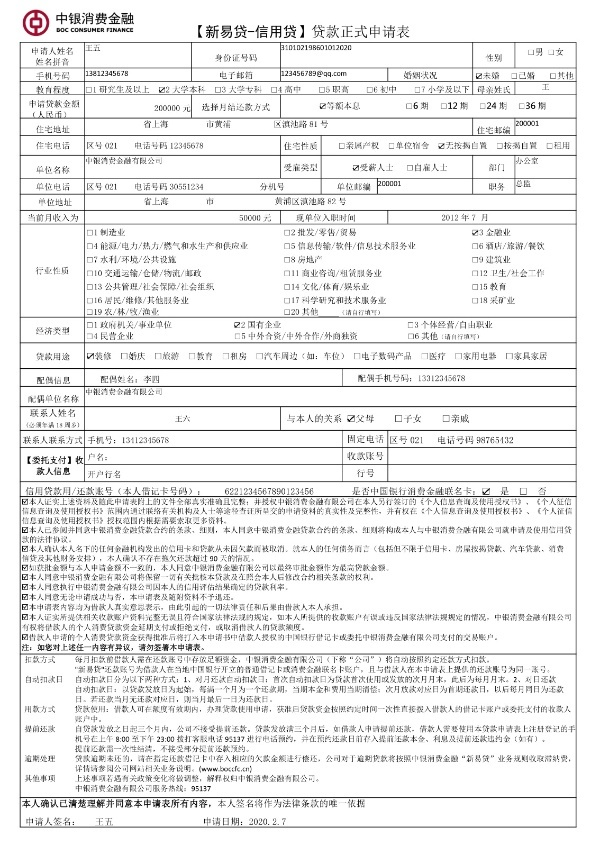text: (209, 23, 224, 42), (225, 23, 240, 42), (241, 23, 256, 42), (257, 23, 272, 42), (273, 23, 288, 42), (289, 23, 304, 42), (305, 23, 320, 42), (321, 23, 336, 42), (337, 23, 352, 42), (353, 23, 368, 42), (369, 23, 384, 42), (385, 23, 400, 42), (65, 11, 80, 28), (81, 11, 96, 28), (97, 11, 112, 28), (113, 11, 128, 28), (481, 293, 496, 310), (497, 293, 512, 310), (401, 23, 414, 42), (97, 266, 112, 281), (113, 266, 128, 281), (129, 266, 144, 281), (145, 266, 160, 281), (161, 266, 176, 281), (177, 266, 192, 281), (289, 239, 304, 254), (305, 239, 320, 254), (321, 239, 336, 254), (337, 239, 352, 254), (353, 239, 368, 254), (369, 239, 384, 254), (385, 239, 400, 254), (401, 239, 416, 254), (289, 266, 304, 281), (305, 266, 320, 281), (321, 266, 336, 281), (337, 266, 352, 281), (353, 266, 368, 281), (369, 266, 384, 281), (289, 293, 304, 308), (305, 293, 320, 308), (321, 293, 336, 308), (337, 293, 352, 308), (353, 293, 368, 308), (369, 293, 384, 308), (113, 227, 129, 241), (145, 117, 160, 131), (97, 227, 112, 241), (97, 253, 112, 267), (113, 253, 128, 267), (129, 253, 144, 267), (145, 253, 160, 267), (161, 253, 176, 267), (97, 280, 112, 294), (113, 280, 128, 294), (129, 280, 144, 294), (145, 280, 160, 294), (161, 280, 176, 294), (177, 280, 192, 294), (193, 280, 208, 294), (97, 294, 112, 308), (113, 294, 128, 308), (129, 294, 144, 308), (145, 294, 160, 308), (161, 294, 176, 308), (177, 294, 192, 308), (289, 227, 304, 241), (305, 227, 320, 241), (321, 227, 336, 241), (337, 227, 352, 241), (289, 253, 304, 267), (305, 253, 320, 267), (481, 240, 496, 254), (497, 240, 512, 254), (513, 240, 528, 254), (529, 240, 544, 254), (33, 394, 48, 408), (49, 394, 64, 408), (65, 394, 80, 408), (289, 413, 304, 427), (305, 413, 320, 427), (321, 413, 336, 427), (337, 413, 352, 427), (353, 413, 368, 427), (369, 413, 384, 427), (385, 413, 400, 427), (401, 413, 416, 427), (417, 413, 432, 427), (433, 413, 448, 427), (449, 413, 464, 427), (33, 723, 48, 737), (33, 798, 48, 812), (49, 798, 64, 812), (65, 798, 80, 812), (81, 798, 96, 812), (97, 798, 112, 812), (113, 798, 128, 812), (129, 798, 144, 812), (145, 798, 160, 812), (161, 798, 176, 812), (177, 798, 192, 812), (193, 798, 208, 812), (209, 798, 224, 812), (225, 798, 240, 812), (241, 798, 256, 812), (257, 798, 272, 812), (273, 798, 288, 812), (289, 798, 304, 812), (305, 798, 320, 812), (321, 798, 336, 812), (337, 798, 352, 812), (353, 798, 368, 812), (97, 815, 112, 829), (305, 140, 321, 153), (49, 56, 64, 69), (49, 140, 64, 153), (289, 140, 304, 153), (353, 139, 368, 152), (369, 139, 384, 152), (385, 139, 400, 152), (401, 139, 416, 152), (417, 139, 432, 152), (433, 139, 448, 152), (449, 139, 464, 152), (465, 139, 480, 152), (481, 139, 496, 152), (497, 139, 512, 152), (513, 139, 528, 152), (529, 139, 544, 152), (545, 139, 560, 152), (49, 182, 64, 195), (145, 181, 160, 194), (161, 181, 176, 194), (177, 181, 192, 194), (193, 181, 208, 194), (305, 212, 320, 225), (321, 212, 336, 225), (337, 212, 352, 225), (49, 264, 64, 277), (97, 240, 112, 253), (113, 240, 128, 253), (129, 240, 144, 253), (145, 240, 160, 253), (161, 240, 176, 253), (177, 240, 192, 253), (193, 240, 208, 253), (209, 240, 224, 253), (225, 240, 240, 253), (193, 266, 206, 281), (97, 306, 112, 319), (113, 306, 128, 319), (129, 306, 144, 319), (145, 306, 160, 319), (289, 280, 304, 293), (305, 280, 320, 293), (321, 280, 336, 293), (337, 280, 352, 293), (353, 280, 368, 293), (481, 228, 496, 241), (497, 228, 512, 241), (481, 254, 496, 267), (497, 254, 512, 267), (481, 267, 496, 280), (497, 267, 512, 280), (513, 267, 528, 280), (529, 267, 544, 280), (481, 280, 496, 293), (497, 280, 512, 293), (49, 325, 64, 338), (353, 433, 368, 446), (369, 433, 384, 446), (385, 433, 400, 446), (401, 433, 416, 446), (417, 433, 432, 446), (433, 433, 448, 446), (449, 433, 464, 446), (465, 433, 480, 446), (481, 433, 496, 446), (497, 433, 512, 446), (353, 450, 368, 463), (369, 450, 384, 463), (33, 455, 48, 468), (49, 455, 64, 468), (65, 455, 80, 468), (49, 466, 64, 479), (81, 773, 96, 786), (97, 773, 112, 786), (113, 773, 128, 786), (129, 773, 144, 786), (145, 773, 160, 786), (161, 773, 176, 786), (177, 773, 192, 786), (193, 773, 208, 786), (209, 773, 224, 786), (225, 773, 240, 786), (241, 773, 256, 786), (257, 773, 272, 786), (273, 773, 288, 786), (289, 773, 304, 786), (305, 773, 320, 786), (209, 815, 224, 828), (225, 815, 240, 828), (241, 815, 256, 828), (257, 815, 272, 828), (273, 815, 288, 828), (241, 70, 257, 82), (497, 84, 513, 96), (257, 102, 273, 114), (305, 162, 321, 174), (49, 674, 65, 686), (198, 23, 208, 42), (469, 293, 480, 310), (34, 140, 48, 153), (338, 139, 352, 152), (34, 466, 48, 479), (49, 70, 64, 82), (225, 70, 240, 82), (289, 67, 304, 79), (305, 67, 320, 79), (321, 67, 336, 79), (417, 70, 432, 82), (481, 84, 496, 96), (33, 98, 48, 110), (49, 98, 64, 110), (65, 98, 80, 110), (33, 108, 48, 120), (49, 108, 64, 120), (209, 102, 224, 114), (225, 102, 240, 114), (241, 102, 256, 114), (321, 100, 336, 112), (337, 100, 352, 112), (49, 124, 64, 136), (273, 118, 288, 130), (289, 118, 304, 130), (305, 118, 320, 130), (289, 162, 304, 174), (353, 162, 368, 174), (369, 162, 384, 174), (385, 162, 400, 174), (401, 162, 416, 174), (417, 162, 432, 174), (433, 162, 448, 174), (97, 181, 112, 193), (337, 181, 352, 193), (353, 181, 368, 193), (145, 196, 160, 208), (273, 196, 288, 208), (289, 196, 304, 208), (305, 196, 320, 208), (321, 196, 336, 208), (33, 212, 48, 224), (49, 212, 64, 224), (65, 212, 80, 224), (449, 212, 464, 224), (465, 212, 480, 224), (84, 266, 96, 281), (353, 307, 368, 319), (369, 307, 384, 319), (97, 331, 112, 343), (113, 331, 128, 343), (241, 331, 256, 343), (257, 331, 272, 343), (273, 331, 288, 343), (289, 331, 304, 343), (305, 331, 320, 343), (321, 331, 336, 343), (337, 331, 352, 343), (417, 320, 432, 332), (433, 320, 448, 332), (449, 320, 464, 332), (465, 320, 480, 332), (481, 320, 496, 332), (417, 332, 432, 344), (433, 332, 448, 344), (449, 332, 464, 344), (465, 332, 480, 344), (49, 352, 64, 364), (97, 351, 112, 363), (113, 351, 128, 363), (129, 351, 144, 363), (145, 351, 160, 363), (161, 351, 176, 363), (177, 351, 192, 363), (193, 351, 208, 363), (209, 351, 224, 363), (225, 351, 240, 363), (241, 351, 256, 363), (257, 351, 272, 363), (273, 351, 288, 363), (289, 351, 304, 363), (305, 351, 320, 363), (321, 351, 336, 363), (337, 351, 352, 363), (353, 351, 368, 363), (369, 351, 384, 363), (385, 351, 400, 363), (401, 351, 416, 363), (417, 351, 432, 363), (433, 351, 448, 363), (449, 351, 464, 363), (465, 351, 480, 363), (481, 351, 496, 363), (497, 351, 512, 363), (513, 351, 528, 363), (529, 351, 544, 363), (113, 375, 128, 387), (129, 375, 144, 387), (145, 375, 160, 387), (369, 373, 384, 385), (385, 373, 400, 385), (401, 373, 416, 385), (417, 373, 432, 385), (433, 373, 448, 385), (449, 373, 464, 385), (97, 469, 112, 481), (33, 486, 48, 498), (49, 486, 64, 498), (65, 486, 80, 498), (81, 486, 96, 498), (97, 486, 112, 498), (113, 486, 128, 498), (129, 486, 144, 498), (145, 486, 160, 498), (161, 486, 176, 498), (177, 486, 192, 498), (225, 486, 240, 498), (241, 486, 256, 498), (257, 486, 272, 498), (273, 486, 288, 498), (289, 486, 304, 498), (353, 486, 368, 498), (369, 486, 384, 498), (385, 486, 400, 498), (401, 486, 416, 498), (417, 486, 432, 498), (433, 486, 448, 498), (449, 486, 464, 498), (465, 486, 480, 498), (481, 486, 496, 498), (497, 486, 512, 498), (513, 486, 528, 498), (529, 486, 544, 498), (33, 642, 48, 654), (49, 642, 64, 654), (65, 642, 80, 654), (81, 642, 96, 654), (97, 642, 112, 654), (113, 642, 128, 654), (129, 642, 144, 654), (145, 642, 160, 654), (161, 642, 176, 654), (177, 642, 192, 654), (193, 642, 208, 654), (33, 655, 48, 667), (33, 674, 48, 686), (33, 753, 48, 765), (81, 664, 96, 676), (97, 664, 112, 676), (113, 664, 128, 676), (129, 664, 144, 676), (145, 664, 160, 676), (161, 664, 176, 676), (177, 664, 192, 676), (193, 664, 208, 676), (209, 664, 224, 676), (225, 664, 240, 676), (241, 664, 256, 676), (257, 664, 272, 676), (273, 664, 288, 676), (289, 664, 304, 676), (305, 664, 320, 676), (321, 664, 336, 676), (337, 664, 352, 676), (353, 664, 368, 676), (369, 664, 384, 676), (385, 664, 400, 676), (401, 664, 416, 676), (417, 664, 432, 676), (433, 664, 448, 676), (449, 664, 464, 676), (465, 664, 480, 676), (481, 664, 496, 676), (497, 664, 512, 676), (513, 664, 528, 676), (529, 664, 544, 676), (81, 724, 96, 736), (97, 724, 112, 736), (113, 724, 128, 736), (129, 724, 144, 736), (145, 724, 160, 736), (161, 724, 176, 736), (177, 724, 192, 736), (193, 724, 208, 736), (209, 724, 224, 736), (225, 724, 240, 736), (241, 724, 256, 736), (257, 724, 272, 736), (273, 724, 288, 736), (289, 724, 304, 736), (305, 724, 320, 736), (321, 724, 336, 736), (337, 724, 352, 736), (353, 724, 368, 736), (369, 724, 384, 736), (385, 724, 400, 736), (401, 724, 416, 736), (417, 724, 432, 736), (433, 724, 448, 736), (449, 724, 464, 736), (465, 724, 480, 736), (481, 724, 496, 736), (497, 724, 512, 736), (513, 724, 528, 736), (529, 724, 544, 736), (545, 724, 560, 736), (561, 724, 576, 736), (497, 126, 513, 137), (273, 182, 289, 193), (225, 592, 241, 603), (481, 655, 497, 666), (35, 56, 48, 69), (529, 155, 542, 168), (35, 264, 48, 277), (35, 325, 48, 338), (355, 468, 368, 481), (337, 67, 351, 79), (84, 280, 96, 294), (84, 294, 96, 308), (34, 352, 48, 364), (65, 24, 80, 35), (81, 24, 96, 35), (97, 24, 112, 35), (113, 24, 128, 35), (33, 46, 48, 57), (49, 46, 64, 57), (225, 53, 240, 64), (241, 53, 256, 64), (529, 47, 544, 58), (545, 47, 560, 58), (97, 68, 112, 79), (113, 68, 128, 79), (481, 71, 496, 82), (497, 71, 512, 82), (513, 71, 528, 82), (529, 71, 544, 82), (545, 71, 560, 82), (561, 71, 576, 82), (49, 84, 64, 95), (97, 84, 112, 95), (113, 84, 128, 95), (129, 84, 144, 95), (145, 84, 160, 95), (161, 84, 176, 95), (177, 84, 192, 95), (193, 84, 208, 95), (209, 84, 224, 95), (225, 84, 240, 95), (241, 84, 256, 95), (257, 84, 272, 95), (273, 84, 288, 95), (289, 84, 304, 95), (305, 84, 320, 95), (321, 84, 336, 95), (337, 84, 352, 95), (353, 84, 368, 95), (369, 84, 384, 95), (385, 84, 400, 95), (401, 84, 416, 95), (417, 84, 432, 95), (433, 84, 448, 95), (449, 84, 464, 95), (161, 104, 176, 115), (177, 104, 192, 115), (417, 101, 432, 112), (433, 101, 448, 112), (449, 101, 464, 112), (465, 101, 480, 112), (481, 101, 496, 112), (497, 101, 512, 112), (513, 101, 528, 112), (529, 101, 544, 112), (481, 126, 496, 137), (97, 140, 112, 151), (145, 141, 160, 152), (161, 141, 176, 152), (177, 141, 192, 152), (49, 166, 64, 177), (97, 157, 112, 168), (113, 157, 128, 168), (129, 157, 144, 168), (145, 157, 160, 168), (49, 197, 64, 208), (241, 213, 256, 224), (257, 213, 272, 224), (289, 307, 304, 318), (305, 307, 320, 318), (97, 320, 112, 331), (113, 320, 128, 331), (129, 320, 144, 331), (145, 320, 160, 331), (241, 320, 256, 331), (257, 320, 272, 331), (49, 376, 64, 387), (97, 387, 112, 398), (113, 387, 128, 398), (129, 387, 144, 398), (145, 387, 160, 398), (33, 408, 48, 419), (49, 408, 64, 419), (65, 408, 80, 419), (177, 414, 192, 425), (33, 435, 48, 446), (49, 435, 64, 446), (65, 435, 80, 446), (81, 435, 96, 446), (97, 435, 112, 446), (113, 435, 128, 446), (129, 435, 144, 446), (145, 435, 160, 446), (33, 497, 48, 508), (49, 497, 64, 508), (65, 497, 80, 508), (81, 497, 96, 508), (97, 497, 112, 508), (113, 497, 128, 508), (129, 497, 144, 508), (145, 497, 160, 508), (161, 497, 176, 508), (177, 497, 192, 508), (193, 497, 208, 508), (209, 497, 224, 508), (225, 497, 240, 508), (241, 497, 256, 508), (257, 497, 272, 508), (273, 497, 288, 508), (289, 497, 304, 508), (305, 497, 320, 508), (321, 497, 336, 508), (337, 497, 352, 508), (353, 497, 368, 508), (369, 497, 384, 508), (385, 497, 400, 508), (401, 497, 416, 508), (417, 497, 432, 508), (433, 497, 448, 508), (449, 497, 464, 508), (465, 497, 480, 508), (481, 497, 496, 508), (497, 497, 512, 508), (513, 497, 528, 508), (529, 497, 544, 508), (545, 497, 560, 508), (561, 497, 576, 508), (33, 525, 48, 536), (49, 525, 64, 536), (65, 525, 80, 536), (81, 525, 96, 536), (97, 525, 112, 536), (113, 525, 128, 536), (129, 525, 144, 536), (145, 525, 160, 536), (161, 525, 176, 536), (177, 525, 192, 536), (193, 525, 208, 536), (209, 525, 224, 536), (225, 525, 240, 536), (241, 525, 256, 536), (257, 525, 272, 536), (273, 525, 288, 536), (289, 525, 304, 536), (305, 525, 320, 536), (321, 525, 336, 536), (337, 525, 352, 536), (353, 525, 368, 536), (369, 525, 384, 536), (385, 525, 400, 536), (401, 525, 416, 536), (417, 525, 432, 536), (433, 525, 448, 536), (449, 525, 464, 536), (465, 525, 480, 536), (481, 525, 496, 536), (497, 525, 512, 536), (513, 525, 528, 536), (529, 525, 544, 536), (545, 525, 560, 536), (561, 525, 576, 536), (33, 535, 48, 546), (49, 535, 64, 546), (33, 563, 48, 574), (49, 563, 64, 574), (65, 563, 80, 574), (81, 563, 96, 574), (97, 563, 112, 574), (113, 563, 128, 574), (129, 563, 144, 574), (145, 563, 160, 574), (161, 563, 176, 574), (177, 563, 192, 574), (193, 563, 208, 574), (209, 563, 224, 574), (225, 563, 240, 574), (241, 563, 256, 574), (257, 563, 272, 574), (273, 563, 288, 574), (289, 563, 304, 574), (305, 563, 320, 574), (321, 563, 336, 574), (337, 563, 352, 574), (353, 563, 368, 574), (369, 563, 384, 574), (33, 573, 48, 584), (49, 573, 64, 584), (65, 573, 80, 584), (81, 573, 96, 584), (97, 573, 112, 584), (113, 573, 128, 584), (129, 573, 144, 584), (145, 573, 160, 584), (161, 573, 176, 584), (177, 573, 192, 584), (193, 573, 208, 584), (209, 573, 224, 584), (225, 573, 240, 584), (241, 573, 256, 584), (257, 573, 272, 584), (273, 573, 288, 584), (289, 573, 304, 584), (305, 573, 320, 584), (321, 573, 336, 584), (337, 573, 352, 584), (353, 573, 368, 584), (33, 582, 48, 593), (49, 582, 64, 593), (65, 582, 80, 593), (81, 582, 96, 593), (97, 582, 112, 593), (113, 582, 128, 593), (129, 582, 144, 593), (145, 582, 160, 593), (161, 582, 176, 593), (177, 582, 192, 593), (193, 582, 208, 593), (209, 582, 224, 593), (225, 582, 240, 593), (241, 582, 256, 593), (257, 582, 272, 593), (273, 582, 288, 593), (33, 592, 48, 603), (49, 592, 64, 603), (65, 592, 80, 603), (81, 592, 96, 603), (97, 592, 112, 603), (113, 592, 128, 603), (129, 592, 144, 603), (145, 592, 160, 603), (161, 592, 176, 603), (177, 592, 192, 603), (193, 592, 208, 603), (209, 592, 224, 603), (33, 602, 48, 613), (49, 602, 64, 613), (65, 602, 80, 613), (81, 602, 96, 613), (97, 602, 112, 613), (113, 602, 128, 613), (129, 602, 144, 613), (145, 602, 160, 613), (161, 602, 176, 613), (177, 602, 192, 613), (193, 602, 208, 613), (209, 602, 224, 613), (225, 602, 240, 613), (241, 602, 256, 613), (257, 602, 272, 613), (273, 602, 288, 613), (289, 602, 304, 613), (305, 602, 320, 613), (321, 602, 336, 613), (33, 612, 48, 623), (49, 612, 64, 623), (65, 612, 80, 623), (81, 612, 96, 623), (97, 612, 112, 623), (113, 612, 128, 623), (129, 612, 144, 623), (145, 612, 160, 623), (161, 612, 176, 623), (177, 612, 192, 623), (193, 612, 208, 623), (209, 612, 224, 623), (225, 612, 240, 623), (241, 612, 256, 623), (257, 612, 272, 623), (273, 612, 288, 623), (289, 612, 304, 623), (305, 612, 320, 623), (321, 612, 336, 623), (337, 612, 352, 623), (353, 612, 368, 623), (369, 612, 384, 623), (385, 612, 400, 623), (401, 612, 416, 623), (417, 612, 432, 623), (433, 612, 448, 623), (449, 612, 464, 623), (465, 612, 480, 623), (481, 612, 496, 623), (497, 612, 512, 623), (513, 612, 528, 623), (529, 612, 544, 623), (545, 612, 560, 623), (561, 612, 576, 623), (33, 623, 48, 634), (49, 623, 64, 634), (65, 623, 80, 634), (81, 623, 96, 634), (97, 623, 112, 634), (113, 623, 128, 634), (129, 623, 144, 634), (145, 623, 160, 634), (161, 623, 176, 634), (177, 623, 192, 634), (193, 623, 208, 634), (209, 623, 224, 634), (225, 623, 240, 634), (241, 623, 256, 634), (257, 623, 272, 634), (273, 623, 288, 634), (289, 623, 304, 634), (33, 632, 48, 643), (49, 632, 64, 643), (65, 632, 80, 643), (81, 632, 96, 643), (97, 632, 112, 643), (113, 632, 128, 643), (129, 632, 144, 643), (145, 632, 160, 643), (161, 632, 176, 643), (177, 632, 192, 643), (193, 632, 208, 643), (209, 632, 224, 643), (225, 632, 240, 643), (241, 632, 256, 643), (257, 632, 272, 643), (273, 632, 288, 643), (289, 632, 304, 643), (305, 632, 320, 643), (321, 632, 336, 643), (337, 632, 352, 643), (353, 632, 368, 643), (369, 632, 384, 643), (385, 632, 400, 643), (401, 632, 416, 643), (417, 632, 432, 643), (433, 632, 448, 643), (449, 632, 464, 643), (465, 632, 480, 643), (481, 632, 496, 643), (33, 773, 48, 784), (81, 655, 96, 666), (97, 655, 112, 666), (113, 655, 128, 666), (129, 655, 144, 666), (145, 655, 160, 666), (161, 655, 176, 666), (177, 655, 192, 666), (193, 655, 208, 666), (209, 655, 224, 666), (225, 655, 240, 666), (241, 655, 256, 666), (257, 655, 272, 666), (273, 655, 288, 666), (289, 655, 304, 666), (305, 655, 320, 666), (321, 655, 336, 666), (337, 655, 352, 666), (353, 655, 368, 666), (369, 655, 384, 666), (385, 655, 400, 666), (401, 655, 416, 666), (417, 655, 432, 666), (433, 655, 448, 666), (449, 655, 464, 666), (465, 655, 480, 666), (81, 684, 96, 695), (97, 684, 112, 695), (113, 684, 128, 695), (129, 684, 144, 695), (145, 684, 160, 695), (161, 684, 176, 695), (177, 684, 192, 695), (193, 684, 208, 695), (209, 684, 224, 695), (225, 684, 240, 695), (241, 684, 256, 695), (257, 684, 272, 695), (273, 684, 288, 695), (289, 684, 304, 695), (305, 684, 320, 695), (321, 684, 336, 695), (337, 684, 352, 695), (353, 684, 368, 695), (369, 684, 384, 695), (385, 684, 400, 695), (401, 684, 416, 695), (417, 684, 432, 695), (433, 684, 448, 695), (449, 684, 464, 695), (465, 684, 480, 695), (481, 684, 496, 695), (497, 684, 512, 695), (513, 684, 528, 695), (529, 684, 544, 695), (545, 684, 560, 695), (81, 694, 96, 705), (97, 694, 112, 705), (113, 694, 128, 705), (129, 694, 144, 705), (145, 694, 160, 705), (161, 694, 176, 705), (177, 694, 192, 705), (193, 694, 208, 705), (209, 694, 224, 705), (225, 694, 240, 705), (241, 694, 256, 705), (257, 694, 272, 705), (81, 704, 96, 715), (97, 704, 112, 715), (113, 704, 128, 715), (129, 704, 144, 715), (145, 704, 160, 715), (161, 704, 176, 715), (177, 704, 192, 715), (193, 704, 208, 715), (209, 704, 224, 715), (225, 704, 240, 715), (241, 704, 256, 715), (257, 704, 272, 715), (273, 704, 288, 715), (289, 704, 304, 715), (305, 704, 320, 715), (321, 704, 336, 715), (337, 704, 352, 715), (353, 704, 368, 715), (369, 704, 384, 715), (385, 704, 400, 715), (401, 704, 416, 715), (417, 704, 432, 715), (433, 704, 448, 715), (449, 704, 464, 715), (465, 704, 480, 715), (481, 704, 496, 715), (497, 704, 512, 715), (513, 704, 528, 715), (529, 704, 544, 715), (545, 704, 560, 715), (81, 714, 96, 725), (81, 734, 96, 745), (97, 734, 112, 745), (113, 734, 128, 745), (129, 734, 144, 745), (145, 734, 160, 745), (161, 734, 176, 745), (177, 734, 192, 745), (193, 734, 208, 745), (209, 734, 224, 745), (225, 734, 240, 745), (241, 734, 256, 745), (257, 734, 272, 745), (273, 734, 288, 745), (289, 734, 304, 745), (305, 734, 320, 745), (321, 734, 336, 745), (337, 734, 352, 745), (353, 734, 368, 745), (369, 734, 384, 745), (385, 734, 400, 745), (401, 734, 416, 745), (417, 734, 432, 745), (433, 734, 448, 745), (449, 734, 464, 745), (465, 734, 480, 745), (481, 734, 496, 745), (497, 734, 512, 745), (513, 734, 528, 745), (529, 734, 544, 745), (81, 763, 96, 774), (97, 763, 112, 774), (113, 763, 128, 774), (129, 763, 144, 774), (145, 763, 160, 774), (161, 763, 176, 774), (177, 763, 192, 774), (193, 763, 208, 774), (209, 763, 224, 774), (225, 763, 240, 774), (241, 763, 256, 774), (81, 783, 96, 794), (97, 783, 112, 794), (113, 783, 128, 794), (129, 783, 144, 794), (145, 783, 160, 794), (161, 783, 176, 794), (177, 783, 192, 794), (193, 783, 208, 794), (33, 817, 48, 828), (49, 817, 64, 828), (35, 70, 48, 82), (403, 70, 416, 82), (35, 124, 48, 136), (561, 139, 573, 152), (36, 182, 48, 195), (337, 196, 350, 208), (99, 375, 112, 387), (305, 486, 318, 498), (34, 84, 48, 95), (161, 117, 172, 131), (193, 141, 207, 152), (34, 166, 48, 177), (85, 253, 96, 267), (321, 253, 332, 267), (161, 320, 175, 331), (561, 704, 575, 715), (55, 11, 64, 28), (129, 11, 138, 28), (289, 43, 304, 53), (305, 43, 320, 53), (321, 43, 336, 53), (337, 43, 352, 53), (209, 119, 224, 129), (385, 179, 400, 189), (33, 420, 48, 430), (49, 420, 64, 430), (65, 420, 80, 430), (33, 507, 48, 517), (49, 507, 64, 517), (65, 507, 80, 517), (81, 507, 96, 517), (97, 507, 112, 517), (113, 507, 128, 517), (129, 507, 144, 517), (145, 507, 160, 517), (161, 507, 176, 517), (177, 507, 192, 517), (193, 507, 208, 517), (209, 507, 224, 517), (225, 507, 240, 517), (241, 507, 256, 517), (257, 507, 272, 517), (273, 507, 288, 517), (289, 507, 304, 517), (305, 507, 320, 517), (321, 507, 336, 517), (337, 507, 352, 517), (353, 507, 368, 517), (369, 507, 384, 517), (385, 507, 400, 517), (401, 507, 416, 517), (417, 507, 432, 517), (433, 507, 448, 517), (449, 507, 464, 517), (465, 507, 480, 517), (481, 507, 496, 517), (497, 507, 512, 517), (513, 507, 528, 517), (529, 507, 544, 517), (545, 507, 560, 517), (561, 507, 576, 517), (33, 516, 48, 526), (49, 516, 64, 526), (65, 516, 80, 526), (81, 516, 96, 526), (97, 516, 112, 526), (113, 516, 128, 526), (129, 516, 144, 526), (145, 516, 160, 526), (161, 516, 176, 526), (177, 516, 192, 526), (193, 516, 208, 526), (209, 516, 224, 526), (33, 544, 48, 554), (49, 544, 64, 554), (65, 544, 80, 554), (81, 544, 96, 554), (97, 544, 112, 554), (113, 544, 128, 554), (129, 544, 144, 554), (145, 544, 160, 554), (161, 544, 176, 554), (177, 544, 192, 554), (193, 544, 208, 554), (209, 544, 224, 554), (225, 544, 240, 554), (241, 544, 256, 554), (257, 544, 272, 554), (273, 544, 288, 554), (289, 544, 304, 554), (305, 544, 320, 554), (321, 544, 336, 554), (337, 544, 352, 554), (353, 544, 368, 554), (369, 544, 384, 554), (385, 544, 400, 554), (401, 544, 416, 554), (417, 544, 432, 554), (433, 544, 448, 554), (449, 544, 464, 554), (465, 544, 480, 554), (481, 544, 496, 554), (497, 544, 512, 554), (513, 544, 528, 554), (529, 544, 544, 554), (545, 544, 560, 554), (33, 554, 48, 564), (49, 554, 64, 564), (65, 554, 80, 564), (81, 554, 96, 564), (97, 554, 112, 564), (113, 554, 128, 564), (129, 554, 144, 564), (145, 554, 160, 564), (161, 554, 176, 564), (177, 554, 192, 564), (193, 554, 208, 564), (209, 554, 224, 564), (225, 554, 240, 564), (241, 554, 256, 564), (33, 705, 48, 715), (81, 675, 96, 685), (97, 675, 112, 685), (113, 675, 128, 685), (129, 675, 144, 685), (145, 675, 160, 685), (161, 675, 176, 685), (177, 675, 192, 685), (193, 675, 208, 685), (209, 675, 224, 685), (225, 675, 240, 685), (241, 675, 256, 685), (257, 675, 272, 685), (273, 675, 288, 685), (289, 675, 304, 685), (305, 675, 320, 685), (321, 675, 336, 685), (337, 675, 352, 685), (353, 675, 368, 685), (369, 675, 384, 685), (385, 675, 400, 685), (401, 675, 416, 685), (417, 675, 432, 685), (433, 675, 448, 685), (449, 675, 464, 685), (465, 675, 480, 685), (481, 675, 496, 685), (497, 675, 512, 685), (513, 675, 528, 685), (529, 675, 544, 685), (545, 675, 560, 685), (81, 745, 96, 755), (97, 745, 112, 755), (113, 745, 128, 755), (129, 745, 144, 755), (145, 745, 160, 755), (161, 745, 176, 755), (177, 745, 192, 755), (193, 745, 208, 755), (209, 745, 224, 755), (225, 745, 240, 755), (81, 754, 96, 764), (97, 754, 112, 764), (113, 754, 128, 764), (129, 754, 144, 764), (145, 754, 160, 764), (161, 754, 176, 764), (177, 754, 192, 764), (193, 754, 208, 764), (209, 754, 224, 764), (225, 754, 240, 764), (241, 754, 256, 764), (257, 754, 272, 764), (273, 754, 288, 764), (289, 754, 304, 764), (305, 754, 320, 764), (321, 754, 336, 764), (337, 754, 352, 764), (353, 754, 368, 764), (369, 754, 384, 764), (385, 754, 400, 764), (401, 754, 416, 764), (417, 754, 432, 764), (433, 754, 448, 764), (449, 754, 464, 764), (465, 754, 480, 764), (481, 754, 496, 764), (497, 754, 512, 764), (513, 754, 528, 764), (529, 754, 544, 764), (545, 754, 560, 764), (561, 754, 576, 764), (353, 100, 365, 112), (321, 118, 333, 130), (497, 162, 509, 174), (84, 331, 96, 343), (113, 469, 125, 481), (193, 486, 205, 498), (20, 642, 32, 654), (49, 655, 61, 667), (517, 155, 528, 168), (133, 181, 144, 194), (259, 182, 272, 193), (85, 306, 96, 319), (469, 267, 480, 280), (469, 280, 480, 293), (273, 320, 286, 331), (65, 535, 78, 546), (19, 573, 32, 584), (86, 227, 96, 241), (209, 280, 219, 294), (470, 240, 480, 254), (97, 452, 111, 462), (49, 723, 59, 737), (22, 798, 32, 812), (65, 46, 77, 57), (484, 53, 496, 64), (84, 84, 96, 95), (84, 157, 96, 168), (85, 181, 96, 193), (497, 182, 508, 194), (516, 178, 528, 189), (36, 376, 48, 387), (357, 373, 368, 385), (161, 435, 173, 446), (20, 563, 32, 574), (369, 573, 381, 584), (20, 632, 32, 643), (545, 664, 556, 676), (65, 817, 77, 828), (515, 119, 528, 129), (529, 119, 542, 129), (86, 240, 96, 253), (241, 240, 251, 253), (241, 745, 254, 755), (85, 68, 96, 79), (85, 140, 96, 151), (37, 197, 48, 208), (85, 320, 96, 331), (85, 387, 96, 398), (21, 525, 32, 536), (21, 535, 32, 546), (385, 563, 396, 574), (21, 582, 32, 593), (21, 592, 32, 603), (21, 602, 32, 613), (337, 602, 348, 613), (21, 612, 32, 623), (21, 623, 32, 634), (161, 196, 171, 208), (481, 212, 491, 224), (342, 307, 352, 319), (129, 331, 139, 343), (406, 332, 416, 344), (86, 351, 96, 363), (86, 469, 96, 481), (513, 293, 520, 310), (65, 56, 74, 69), (65, 140, 74, 153), (65, 182, 74, 195), (295, 212, 304, 225), (471, 228, 480, 241), (471, 254, 480, 267), (65, 466, 74, 479), (369, 468, 378, 481), (177, 253, 185, 267), (24, 723, 32, 737), (85, 43, 96, 53), (465, 84, 475, 95), (406, 101, 416, 112), (134, 141, 144, 152), (22, 497, 32, 508), (21, 507, 32, 517), (21, 516, 32, 526), (21, 544, 32, 554), (21, 554, 32, 564), (209, 783, 219, 794), (65, 124, 74, 136), (407, 320, 416, 332), (49, 753, 58, 765), (65, 325, 73, 338), (225, 119, 235, 129), (49, 705, 59, 715), (55, 24, 64, 35), (497, 53, 506, 64), (65, 84, 74, 95), (65, 197, 74, 208), (65, 376, 74, 387), (23, 435, 32, 446), (49, 773, 58, 784), (561, 684, 570, 695), (97, 714, 106, 725), (353, 227, 360, 241), (465, 413, 472, 427), (65, 70, 73, 82), (488, 162, 496, 174), (440, 212, 448, 224), (353, 331, 361, 343), (545, 486, 553, 498), (65, 264, 72, 277), (369, 280, 376, 293), (282, 239, 288, 254), (282, 266, 288, 281), (282, 293, 288, 308), (385, 293, 391, 308), (87, 452, 96, 462), (23, 705, 32, 715), (216, 53, 224, 64), (433, 70, 440, 82), (201, 102, 208, 114), (113, 181, 120, 193), (489, 182, 496, 194), (282, 253, 288, 267), (233, 331, 240, 343), (65, 352, 72, 364), (25, 486, 32, 498), (25, 655, 32, 667), (25, 674, 32, 686), (25, 753, 32, 765), (209, 197, 218, 206), (561, 544, 569, 554), (282, 140, 288, 153), (353, 212, 359, 225), (346, 450, 352, 463), (74, 773, 80, 786), (202, 815, 208, 828), (129, 24, 136, 35), (561, 47, 568, 58), (153, 104, 160, 115), (113, 140, 120, 151), (65, 166, 72, 177), (497, 632, 504, 643), (25, 773, 32, 784), (273, 694, 280, 705), (73, 783, 80, 794), (25, 817, 32, 828), (282, 67, 288, 79), (545, 83, 553, 92), (545, 351, 551, 363), (74, 664, 80, 676), (281, 43, 288, 53), (377, 179, 384, 189), (283, 227, 288, 241), (27, 394, 32, 408), (25, 420, 32, 430), (282, 307, 288, 318), (234, 320, 240, 331), (161, 387, 167, 398), (289, 582, 295, 593), (74, 655, 80, 666), (74, 694, 80, 705), (74, 704, 80, 715), (74, 714, 80, 725), (74, 734, 80, 745), (161, 306, 166, 319), (283, 280, 288, 293), (513, 254, 518, 267), (545, 267, 550, 280), (513, 433, 518, 446), (27, 455, 32, 468), (97, 43, 103, 53), (219, 70, 224, 82), (65, 108, 70, 120), (283, 162, 288, 174), (369, 181, 374, 193), (27, 212, 32, 224), (417, 239, 421, 254), (225, 516, 231, 526), (74, 675, 80, 685), (75, 724, 80, 736), (74, 745, 80, 755), (74, 754, 80, 764), (545, 240, 549, 254), (113, 815, 117, 829), (475, 71, 480, 82), (545, 101, 550, 112), (161, 157, 166, 168), (529, 178, 534, 189), (321, 307, 326, 318), (305, 623, 310, 634), (75, 684, 80, 695), (545, 734, 550, 745), (75, 763, 80, 774), (348, 433, 352, 446), (81, 455, 85, 468), (465, 373, 469, 385), (257, 53, 261, 64), (28, 408, 32, 419), (369, 798, 372, 812), (401, 179, 405, 189), (257, 554, 261, 564), (477, 84, 480, 96), (29, 98, 32, 110), (161, 375, 164, 387), (129, 68, 132, 79), (477, 126, 480, 137), (205, 119, 208, 129), (385, 266, 387, 281), (142, 117, 144, 131), (286, 413, 288, 427), (541, 83, 544, 92), (205, 197, 208, 206), (321, 773, 323, 786), (289, 815, 291, 828), (81, 98, 83, 110), (449, 162, 451, 174), (481, 332, 483, 344), (577, 724, 579, 736), (273, 213, 275, 224), (577, 497, 579, 508), (353, 43, 355, 53), (193, 294, 194, 308), (81, 394, 82, 408), (95, 815, 96, 829), (513, 228, 514, 241), (385, 450, 386, 463), (319, 100, 320, 112), (143, 196, 144, 208), (81, 212, 82, 224), (385, 307, 386, 319), (497, 320, 498, 332), (351, 486, 352, 498), (209, 642, 210, 654), (527, 47, 528, 58), (193, 104, 194, 115), (239, 213, 240, 224), (175, 414, 176, 425), (193, 414, 194, 425), (577, 525, 578, 536), (257, 763, 258, 774), (81, 420, 82, 430), (577, 507, 578, 517), (561, 675, 562, 685)
